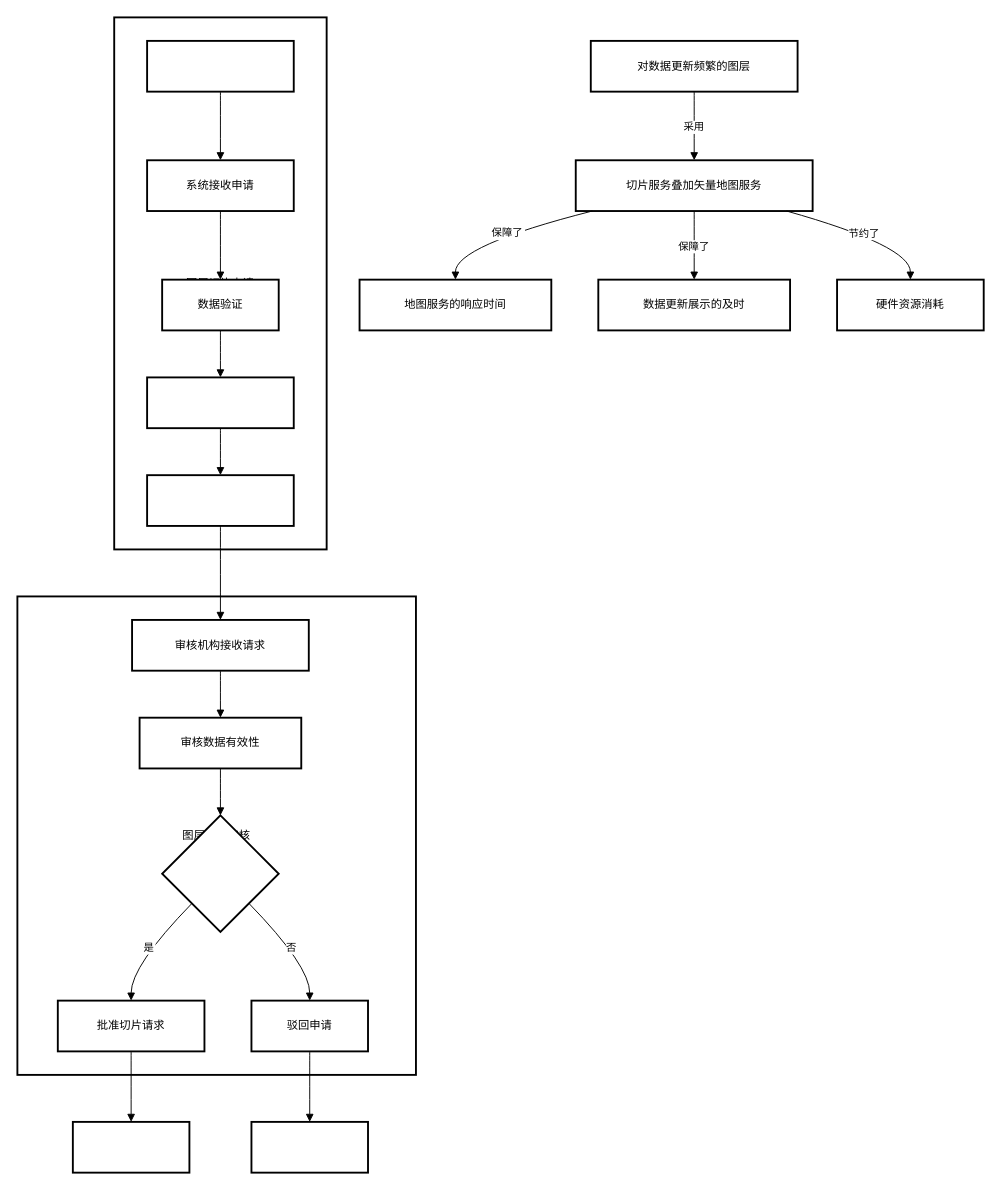
Image size: 1000x1189. Some labels were removed from this diagram. The centre of each missing label's shape, as x and y in pixels:
"发送切片请求" goes at (220,500).
"数据有效?" goes at (220,873).
"生成切片" goes at (130,1146).
"生成切片请求" goes at (220,402).
"用户提交申请" goes at (220,65).
"通知用户" goes at (309,1146).
